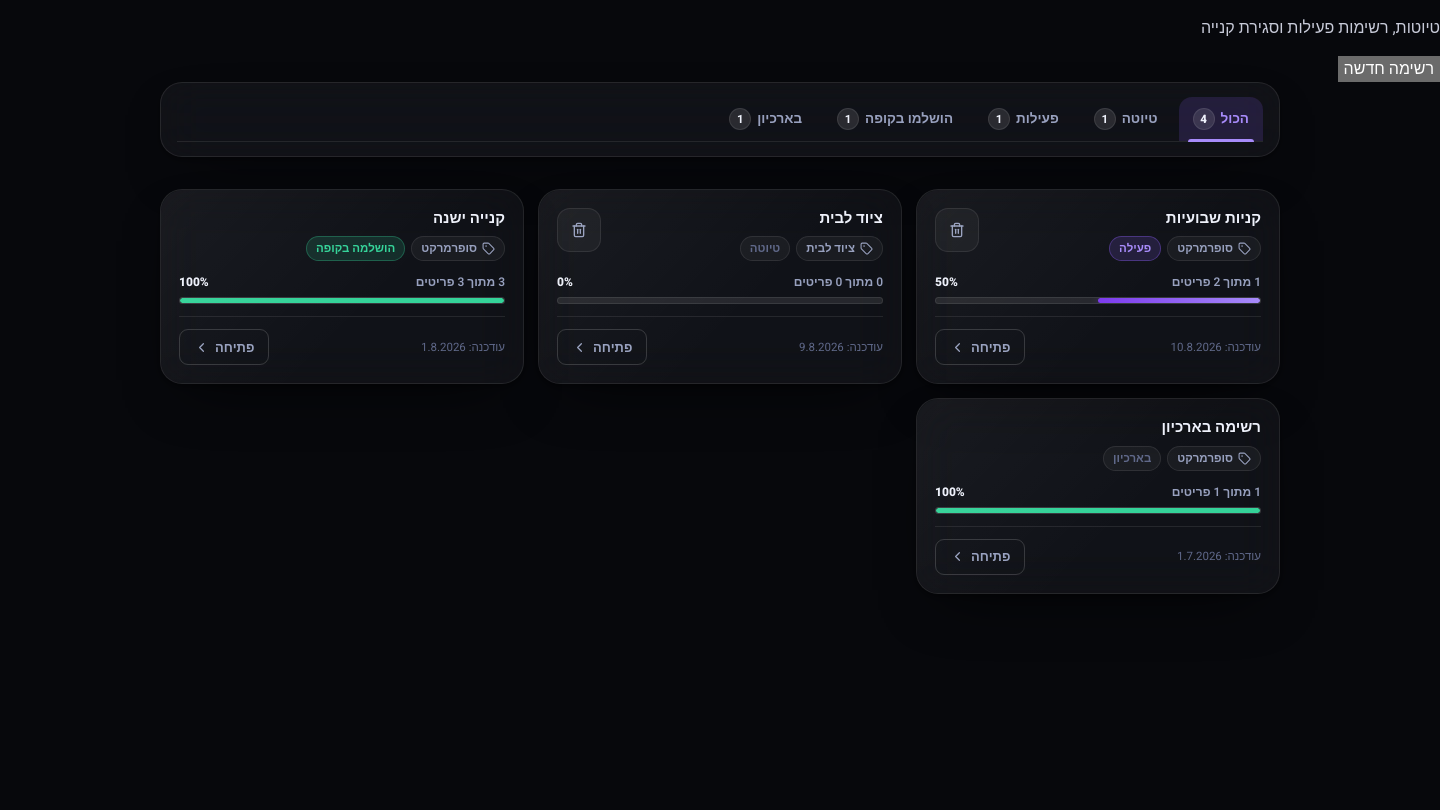
Test: Shopping in-page detail and item lifecycle › activates a draft using the same status payload and keeps failure recoverable
Click the button "פתיחה" next to "9.8.2026".
click(602, 347)  # box [557,329,647,365]
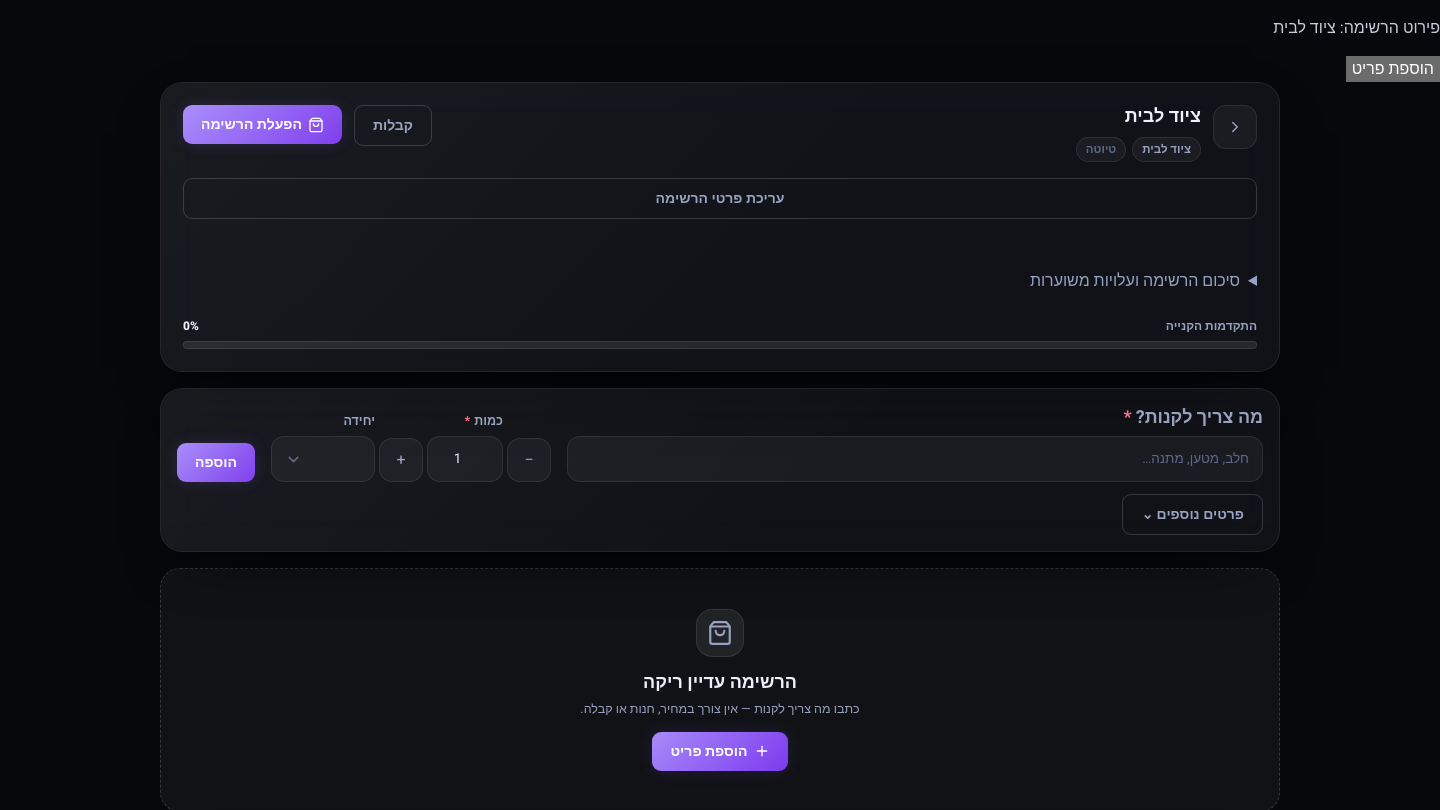
Click the button "הפעלת הרשימה".
click(262, 124)  # box [183,105,342,144]
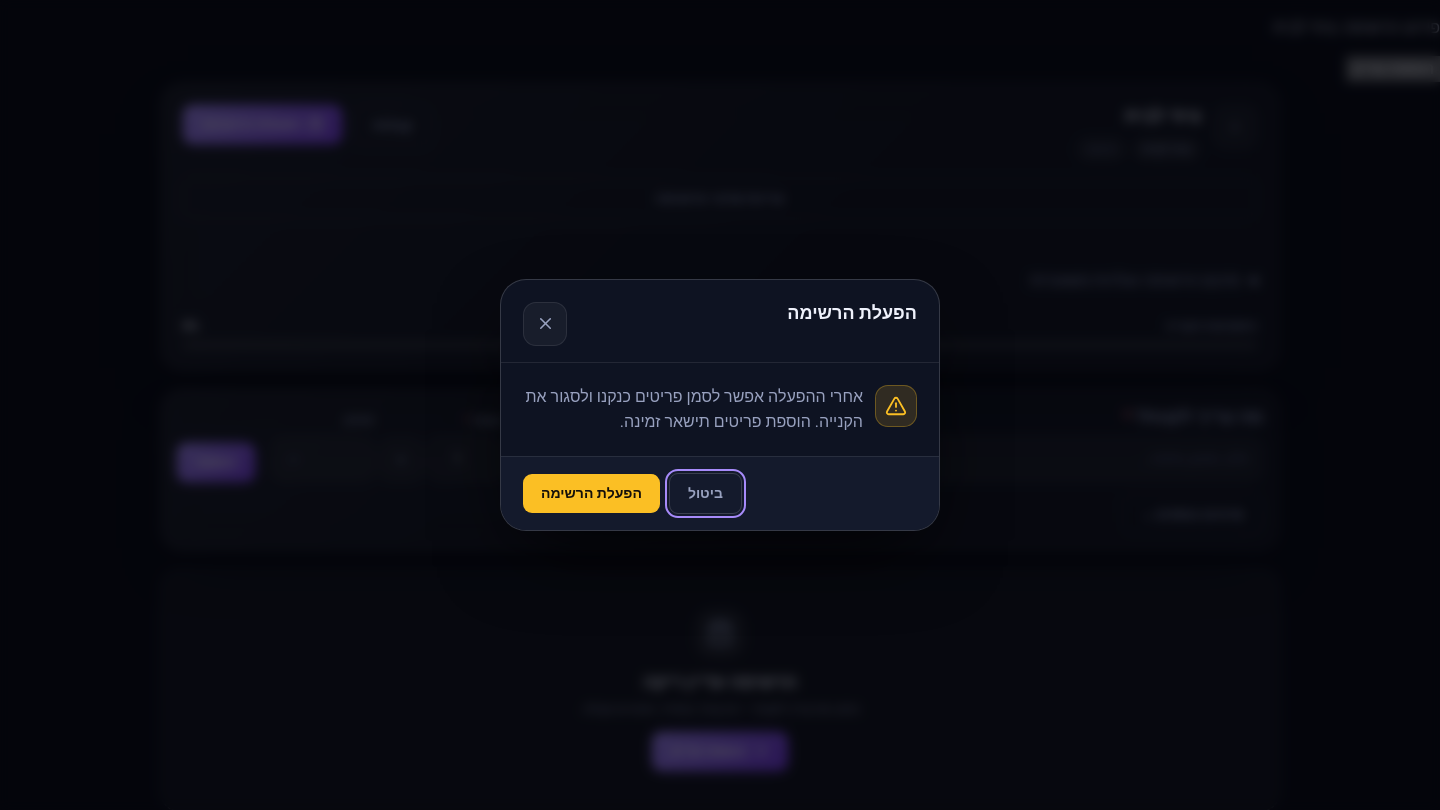
Click the button "הפעלת הרשימה".
click(591, 494)  # box [523,474,660,513]
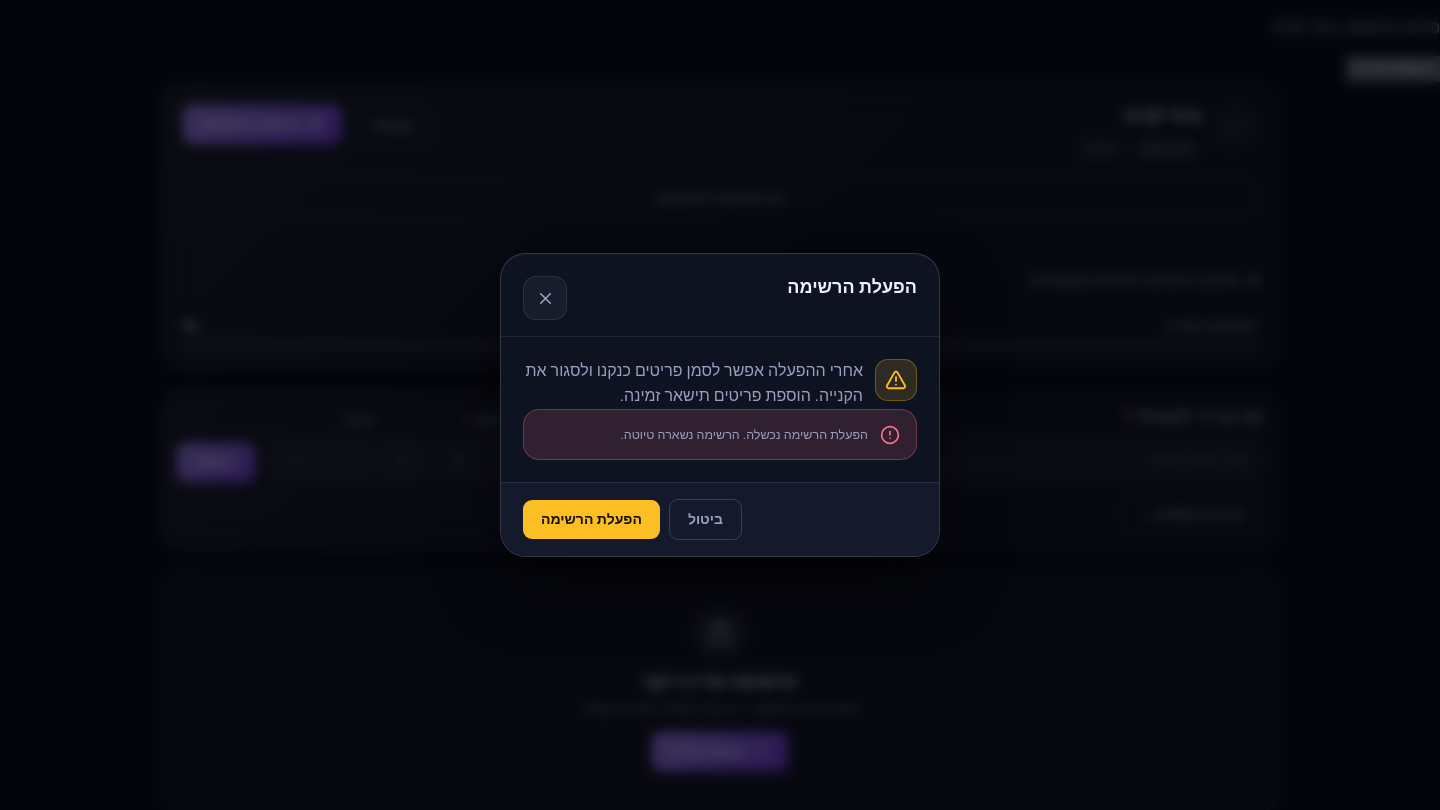
expect the text "הפעלת הרשימה נכשלה. הרשימה נשארה טיוטה." is shown: met, box [620,426,868,444]
